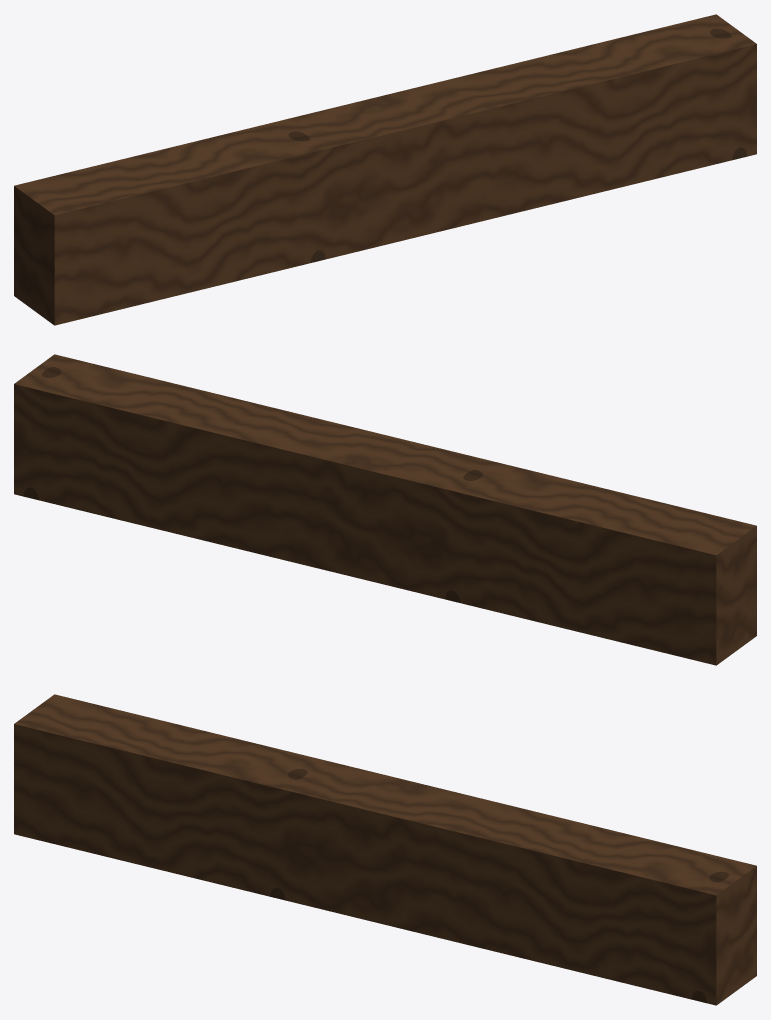
File: beam_2m.glb
The picture shows the model from 3 angles, top to bottom: view 1: azimuth 30°, elevation 25°; view 2: azimuth 150°, elevation 25°; view 3: azimuth 330°, elevation 25°; orthographic projection.
Visible parts, largest first — view 1: beam_2m; view 2: beam_2m; view 3: beam_2m.
Part boxes in pixels (left/top/right/bottom): beam_2m: left=14, top=14, right=756, bottom=325; beam_2m: left=14, top=354, right=756, bottom=665; beam_2m: left=14, top=694, right=756, bottom=1005.
Size of the model in its own units: 2 by 0.3 by 0.2.
Materials: 1 (1 with a texture image).
